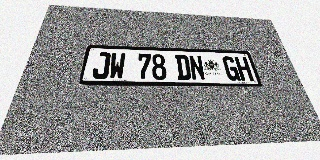7: (137, 53, 152, 80)
8: (152, 54, 167, 80)
D: (175, 55, 192, 80)
G: (222, 56, 241, 81)
H: (234, 57, 254, 81)
J: (91, 52, 111, 79)
N: (188, 55, 206, 80)
W: (108, 52, 126, 79)
